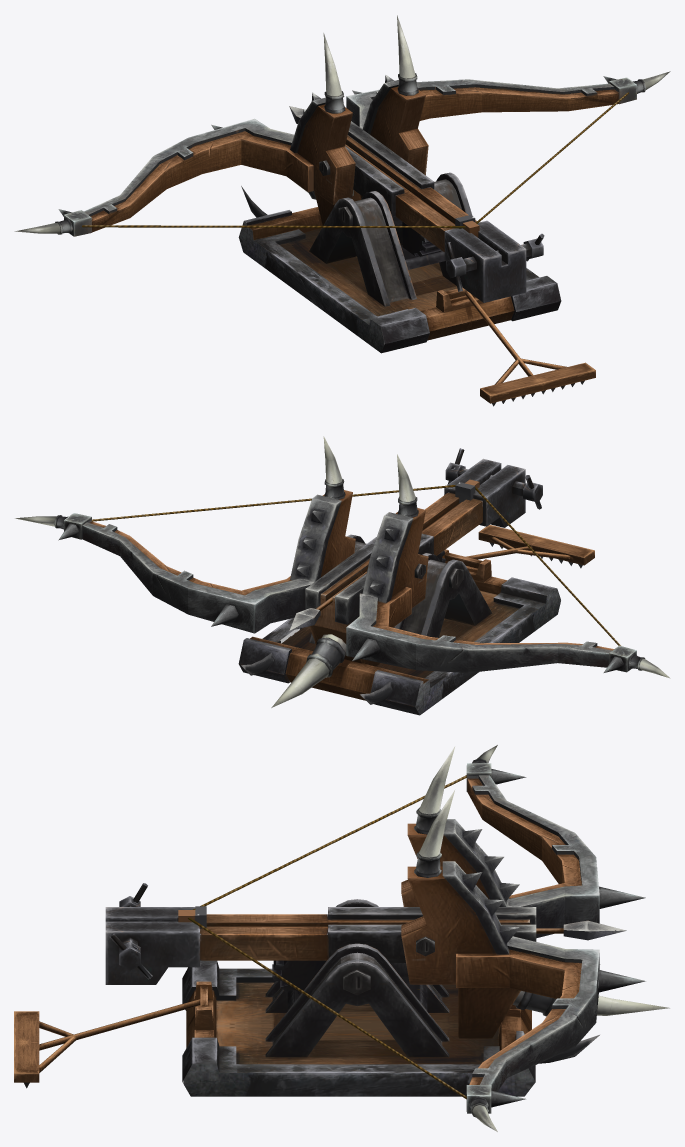
Rendered from nvche_2.FBX.
The picture shows the model from 3 angles, top to bottom: view 1: azimuth 30°, elevation 25°; view 2: azimuth 150°, elevation 25°; view 3: azimuth 270°, elevation 25°; orthographic projection. The views are drawn at different scales.
Parts seen in each view (by area): view 1: polySurface1; view 2: polySurface1; view 3: polySurface1.
Boxes of the visible parts, x1,y1,x2,y2 form: polySurface1: [14, 15, 670, 406]; polySurface1: [15, 436, 670, 715]; polySurface1: [14, 745, 669, 1131].
Size of the model in its own units: 139 by 49.09 by 99.28.
